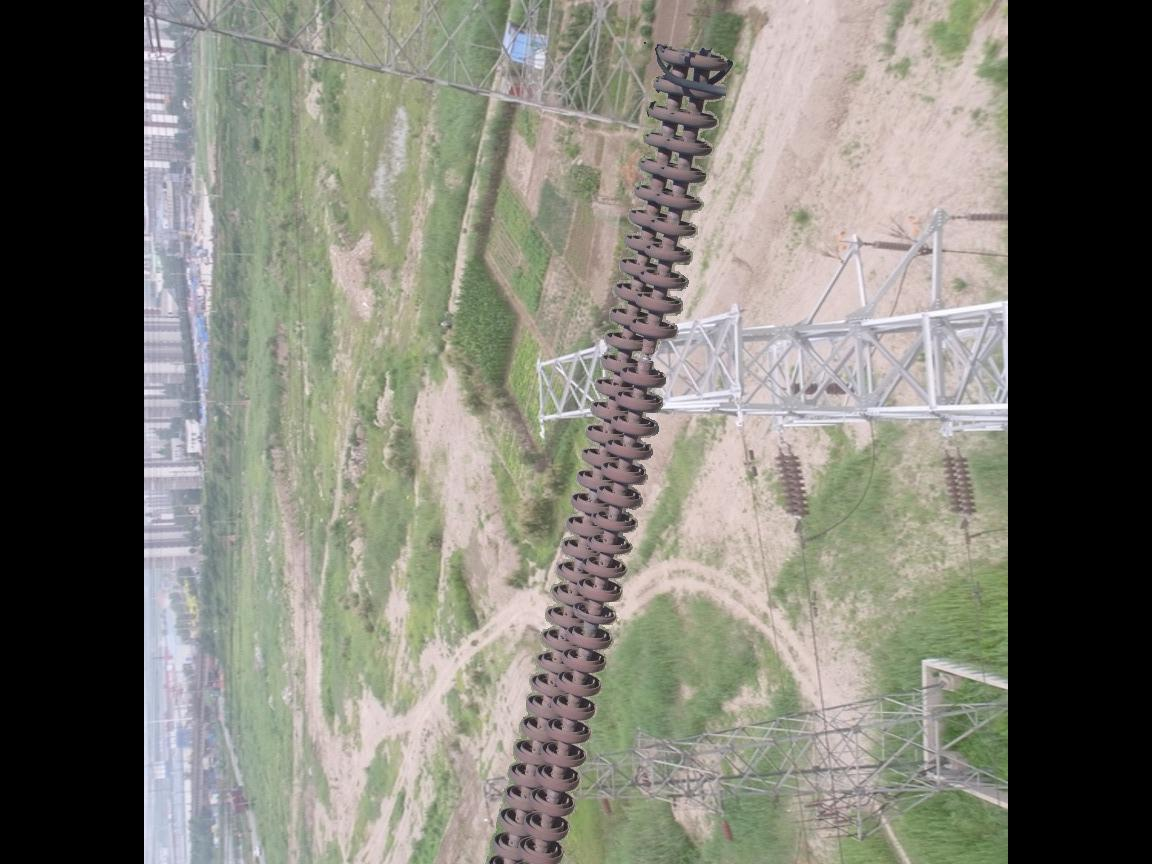insulator: (476, 40, 734, 864), (767, 447, 816, 525), (935, 447, 982, 522)
insulator_stringdrop: (617, 317, 681, 392)
